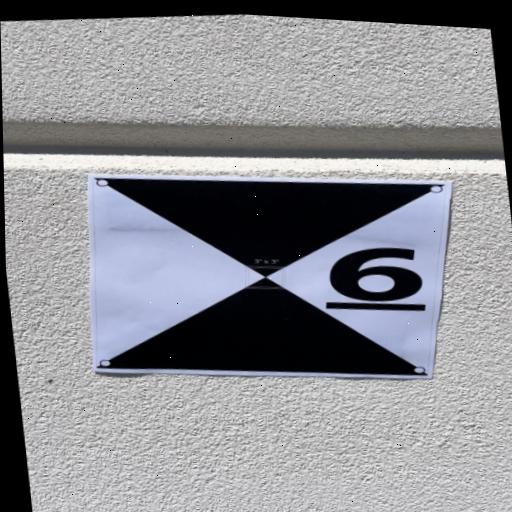target6: (89, 172, 449, 377)
